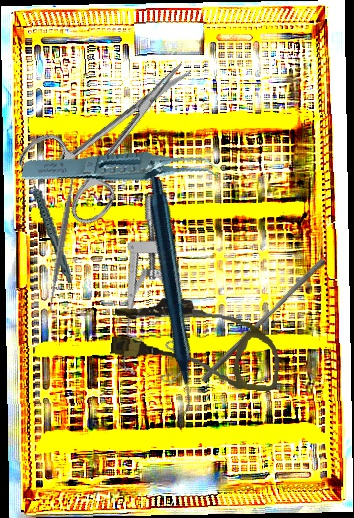Cannula: (108, 292, 285, 393)
Handpiece: (57, 174, 279, 417), (30, 168, 73, 286)
Iris Scissors: (13, 32, 223, 235)
Pusher: (199, 252, 328, 389)
Spatula Surgical: (41, 162, 83, 314)
Speculum: (82, 195, 239, 392)
Tissue Forceps: (20, 119, 223, 224)
